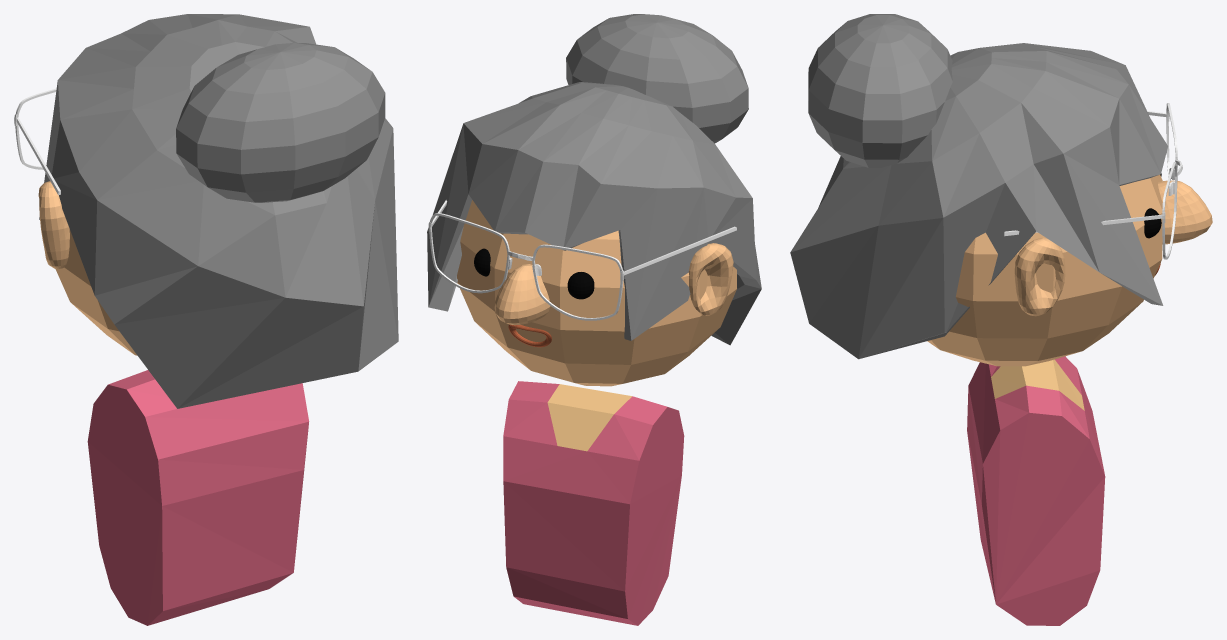
The picture shows the model from 3 angles, left to right: view 1: azimuth 30°, elevation 25°; view 2: azimuth 150°, elevation 25°; view 3: azimuth 270°, elevation 25°; orthographic projection. The views are drawn at different scales.
Parts seen in each view (by area): view 1: Bang, body, Hair, head, Ear, Glasses; view 2: Bang, body, head, Hair, Glasses, nose, Ear, Eye, Mouth; view 3: Bang, body, Hair, head, Ear, nose, Glasses.
Part boxes in pixels (x1=…): Bang: x1=39, y1=14, x2=398, y2=408; body: x1=87, y1=370, x2=309, y2=625; Hair: x1=176, y1=43, x2=385, y2=202; head: x1=55, y1=229, x2=137, y2=355; Ear: x1=38, y1=181, x2=69, y2=268; Glasses: x1=14, y1=88, x2=60, y2=195; Bang: x1=427, y1=82, x2=761, y2=345; body: x1=503, y1=381, x2=684, y2=625; head: x1=457, y1=200, x2=736, y2=386; Hair: x1=566, y1=14, x2=748, y2=143; Glasses: x1=428, y1=200, x2=736, y2=320; nose: x1=494, y1=264, x2=550, y2=325; Ear: x1=688, y1=243, x2=733, y2=315; Eye: x1=474, y1=248, x2=594, y2=299; Mouth: x1=508, y1=324, x2=551, y2=347; Bang: x1=790, y1=43, x2=1167, y2=359; body: x1=967, y1=356, x2=1105, y2=625; Hair: x1=808, y1=14, x2=952, y2=167; head: x1=927, y1=174, x2=1162, y2=366; Ear: x1=1014, y1=237, x2=1065, y2=316; nose: x1=1158, y1=180, x2=1212, y2=244; Glasses: x1=1004, y1=103, x2=1182, y2=259.
Bounding box in the file's own units: 532 × 955 × 637.
